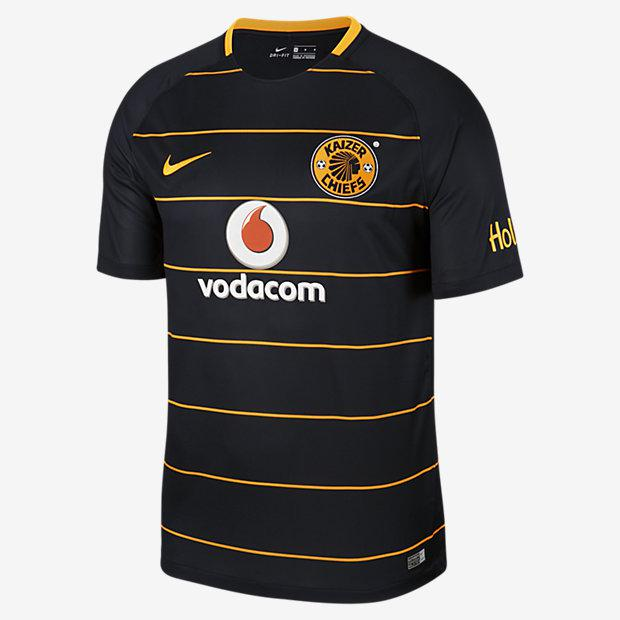teeshirt: (79, 15, 530, 608)
